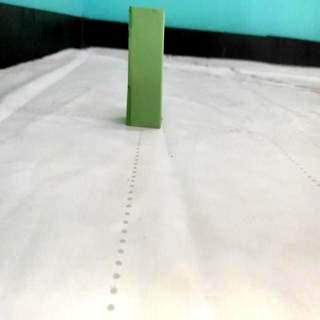greenbox: (128, 5, 164, 128)
